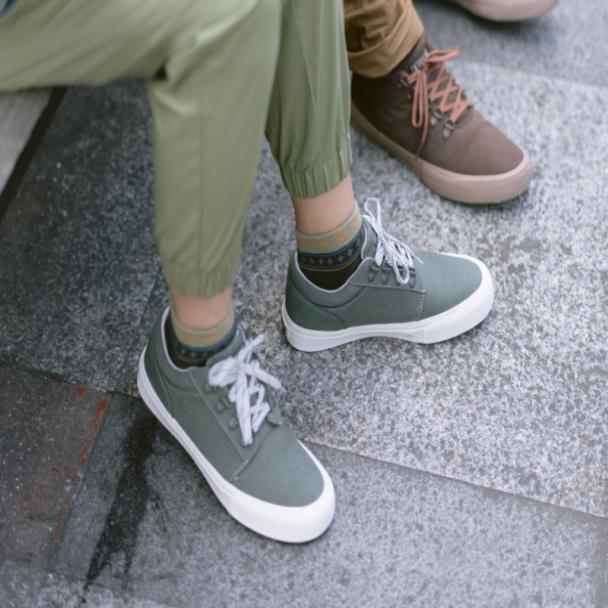Sepatu: (140, 304, 339, 544), (351, 33, 533, 202), (282, 212, 496, 352)
